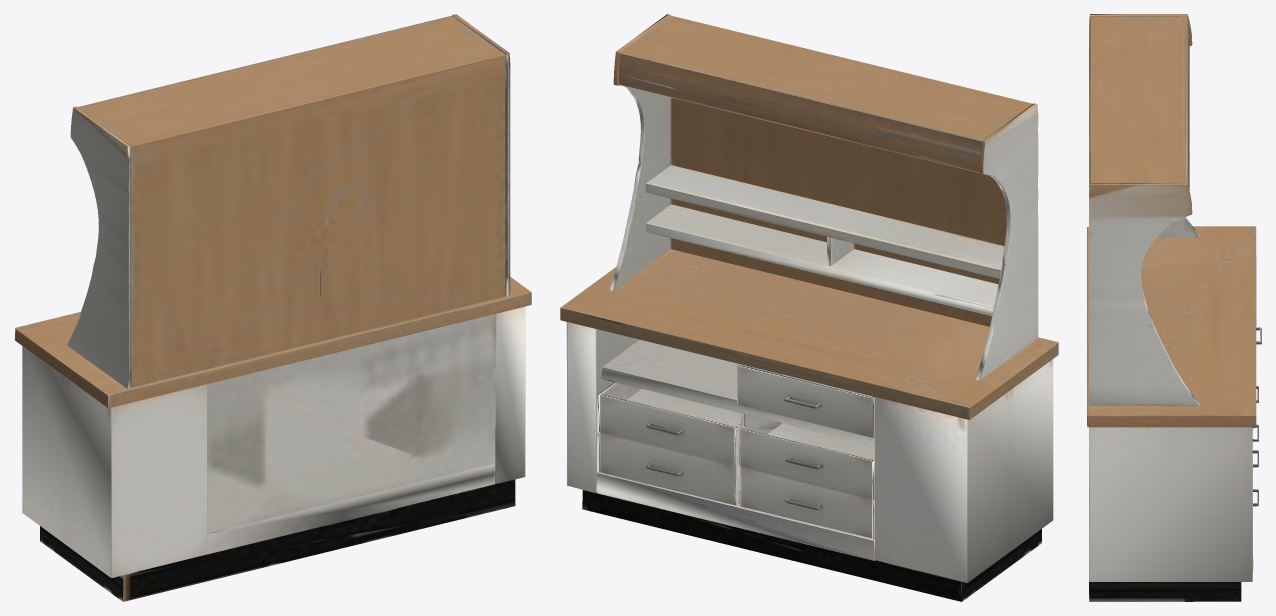
File: mall-mall-cashwrap-counter.glb
3 renders of one model, left to right at view 1: azimuth 30°, elevation 25°; view 2: azimuth 150°, elevation 25°; view 3: azimuth 270°, elevation 25°, orthographic. The views are drawn at different scales.
Parts seen in each view (by area): view 1: mall-cashwrap-counter; view 2: mall-cashwrap-counter; view 3: mall-cashwrap-counter.
Boxes of the visible parts, x1=… form: mall-cashwrap-counter: x1=14, y1=14, x2=531, y2=601; mall-cashwrap-counter: x1=560, y1=14, x2=1058, y2=601; mall-cashwrap-counter: x1=1087, y1=14, x2=1261, y2=601.
Size of the model in its own units: 2 by 2.04 by 0.781.
1 material, 1 textured.
